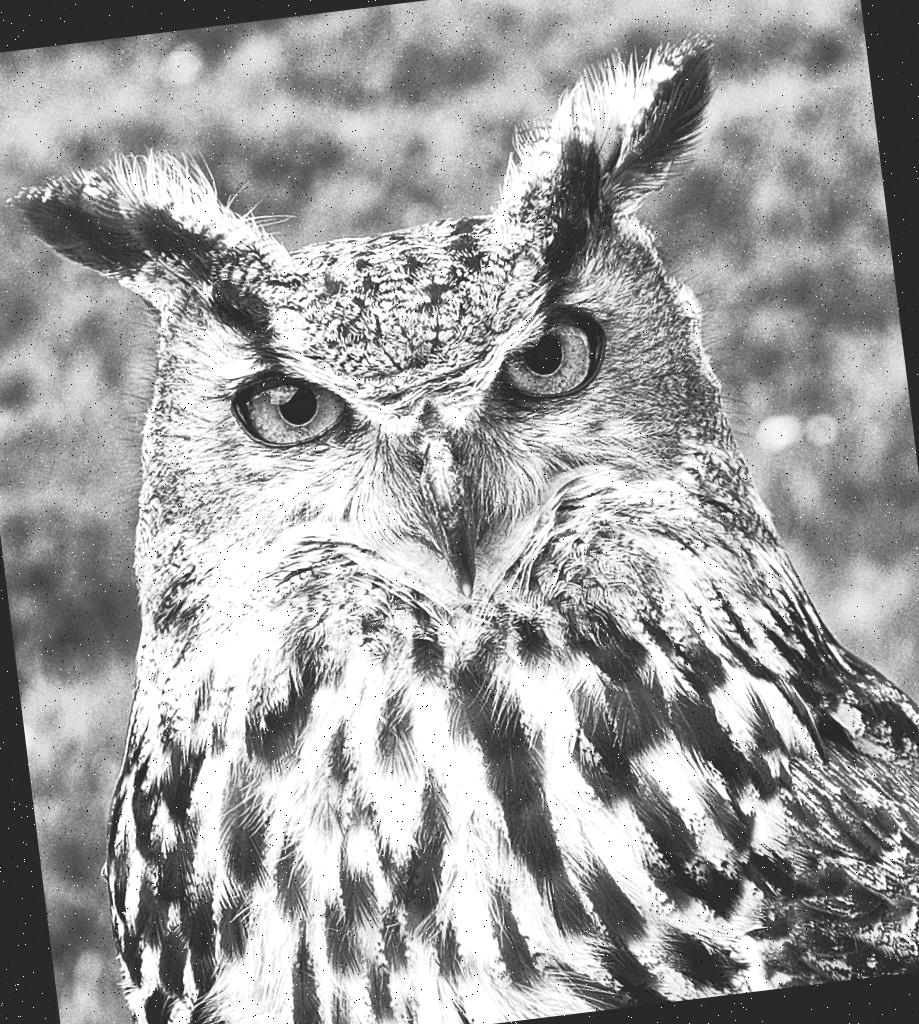Owl: (6, 16, 919, 1024)
